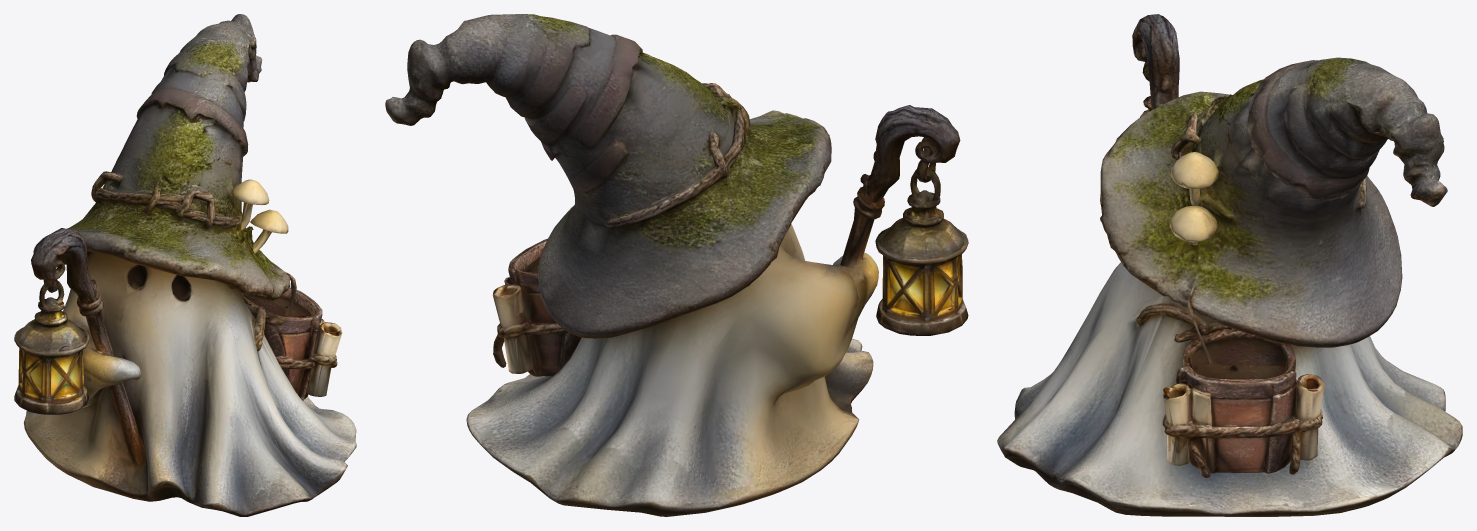
The model's file is lamplighter.glb.
The picture shows the model from 3 angles, left to right: view 1: azimuth 30°, elevation 25°; view 2: azimuth 150°, elevation 25°; view 3: azimuth 270°, elevation 25°; orthographic projection. The views are drawn at different scales.
Visible parts, largest first — view 1: node_0; view 2: node_0; view 3: node_0.
Boxes of the visible parts, <box> form: node_0: <box>14,14,356,516</box>; node_0: <box>385,14,968,516</box>; node_0: <box>997,14,1462,516</box>.
Size of the model in its own units: 0.8094 by 0.7755 by 0.7572.
1 material, 1 textured.
